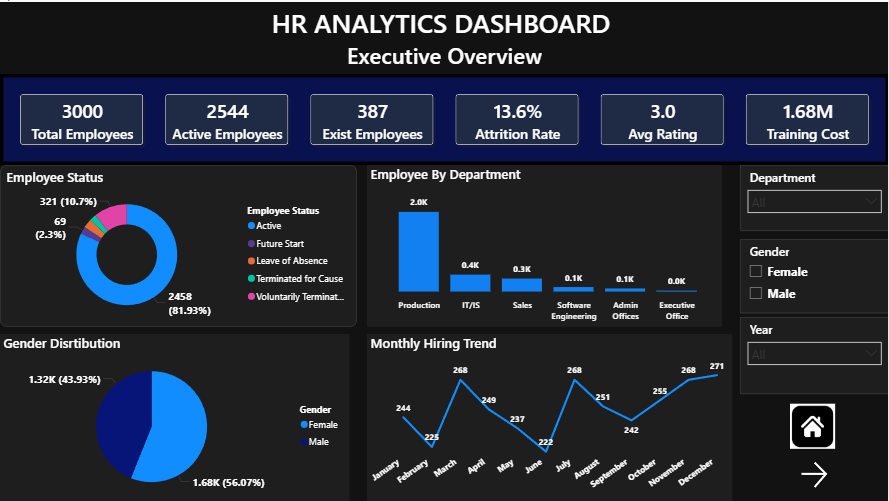

The dashboard page shown, as its layout file describes it:
{"tool":"powerbi","page":{"name":"Executive Overview","canvas":[1280,720],"ordinal":0},"visuals":[{"type":"cardVisual","fields":{"Data":["Date_Table.Employee count","Date_Table.Active Employees","Date_Table.Attrition Count","Date_Table.Attrition Rate","Avg(HR_DATA.Employee Rating)","Sum(HR_DATA.Training Cost)"]},"box":[0,103.7,1280.2,131],"z":0},{"type":"donutChart","title":"Employee Status","fields":{"Category":["HR_DATA.Employee Status"],"Y":["Date_Table.Employee count"]},"box":[0,234.7,514.1,233.3],"z":1000},{"type":"pieChart","title":"Gender Disrtibution","fields":{"Category":["HR_DATA.Gender"],"Y":["CountNonNull(HR_DATA.Employee ID)"]},"box":[0,478.1,502.6,241.9],"z":2000},{"type":"columnChart","title":"Employee By Department","fields":{"Category":["HR_DATA.Department"],"Y":["CountNonNull(HR_DATA.Employee ID)"]},"box":[528.5,234.7,511.2,233.3],"z":3000},{"type":"lineChart","title":"Monthly Hiring Trend","fields":{"Category":["Date_Table.Month"],"Y":["Date_Table.Employee count"]},"box":[528.5,478.1,525.6,241.9],"z":4000},{"type":"slicer","fields":{"Values":["HR_DATA.Department"]},"box":[1065.6,234.7,214.6,95],"z":5000},{"type":"slicer","fields":{"Values":["HR_DATA.Gender"]},"box":[1065.6,341.3,214.6,106.6],"z":6000},{"type":"slicer","fields":{"Values":["Date_Table.Year"]},"box":[1065.6,453.6,214.6,110.9],"z":7000},{"type":"textbox","box":[0,0,1280.2,103.7],"z":8000},{"type":"actionButton","box":[1147.3,657.1,54.1,48.3],"z":9000},{"type":"image","box":[1137.6,577.4,64.8,66.2],"z":10000}]}

Visuals, with their boxes in screenshot pixels (x1, y1, x2, y2), scaled from the page's 1280x720 canvas onto the 889x501 screenshot:
cardVisual - Date_Table.Employee count x Date_Table.Active Employees: [x1=0, y1=72, x2=888, y2=163]
"Employee Status" donutChart: [x1=0, y1=163, x2=357, y2=326]
"Gender Disrtibution" pieChart: [x1=0, y1=333, x2=349, y2=500]
"Employee By Department" columnChart: [x1=367, y1=163, x2=722, y2=326]
"Monthly Hiring Trend" lineChart: [x1=367, y1=333, x2=732, y2=500]
slicer - HR_DATA.Department: [x1=740, y1=163, x2=888, y2=229]
slicer - HR_DATA.Gender: [x1=740, y1=237, x2=888, y2=312]
slicer - Date_Table.Year: [x1=740, y1=316, x2=888, y2=393]
textbox: [x1=0, y1=0, x2=888, y2=72]
actionButton: [x1=797, y1=457, x2=834, y2=491]
image: [x1=790, y1=402, x2=835, y2=448]
